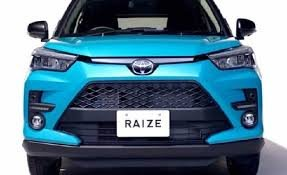mobil: (19, 1, 270, 175)
